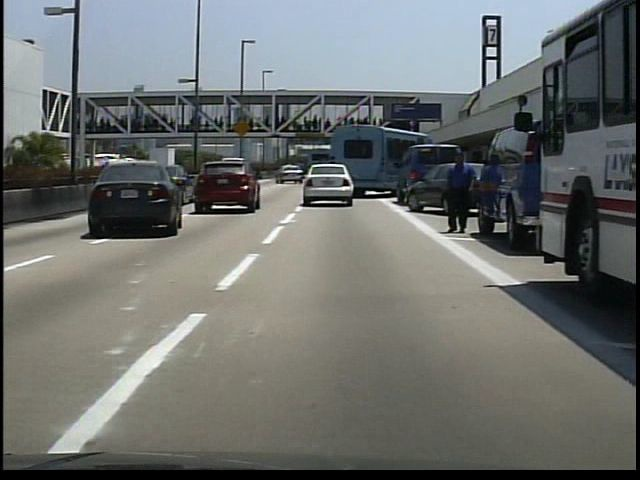person: (439, 151, 484, 240)
